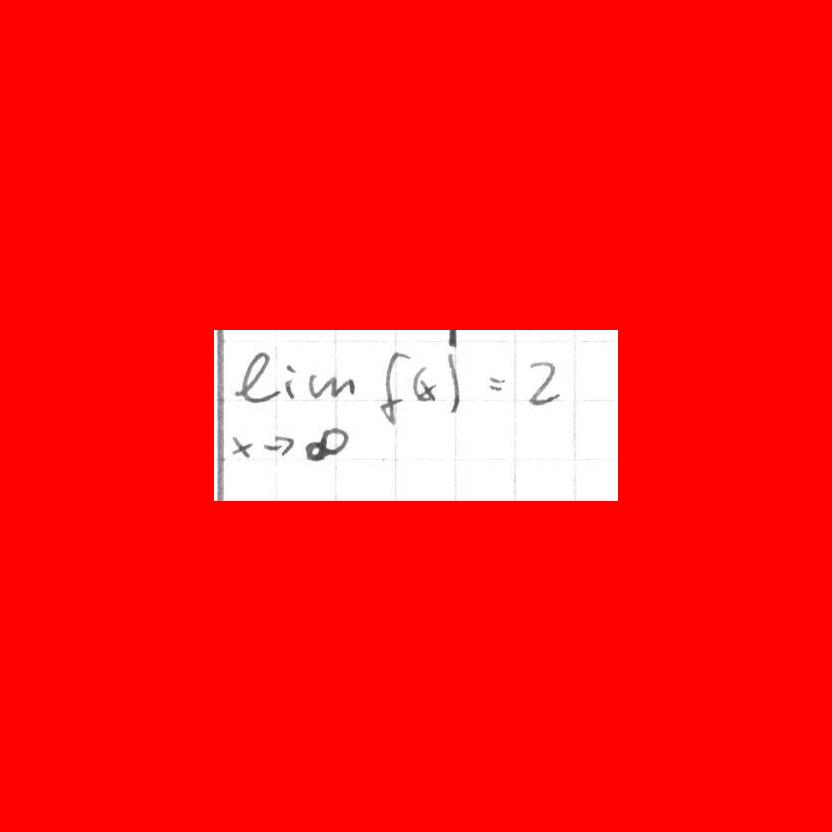Char: (230, 349, 282, 404), (375, 349, 412, 425), (522, 358, 562, 407), (300, 426, 351, 463), (306, 372, 360, 400), (445, 352, 462, 415), (258, 432, 294, 457), (229, 431, 253, 460), (283, 363, 299, 401), (484, 371, 508, 394), (418, 377, 437, 405)
